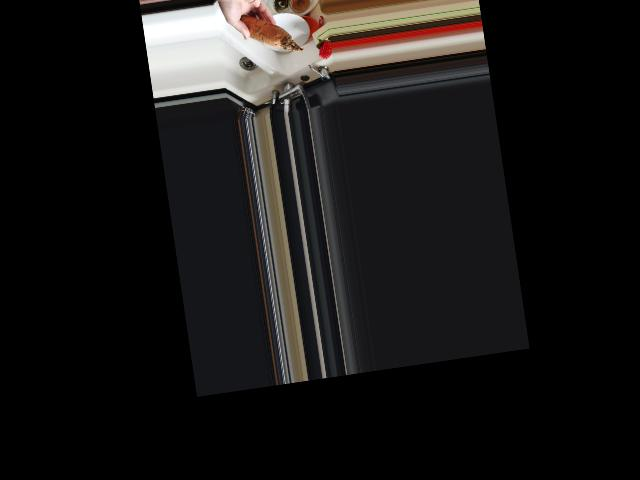sweet_potato: (234, 3, 305, 60)
